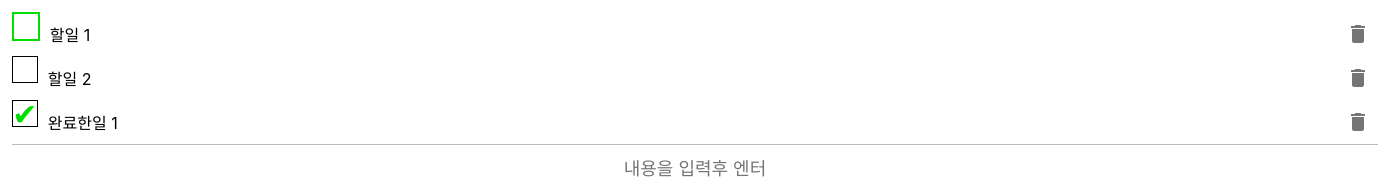
Test: TodoList › removes a task when delete button is clicked
The width and height of the screenshot is (1390, 194).
Click the button without text in the row of "할일 1" at (1358, 34), box left=1338, top=12, right=1378, bottom=56
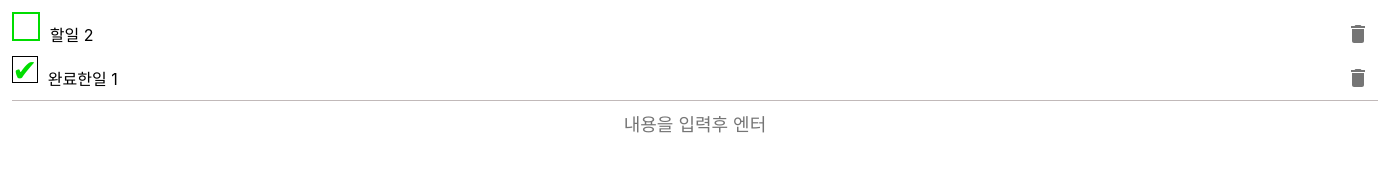
Expected: the text "할일 1" is gone
